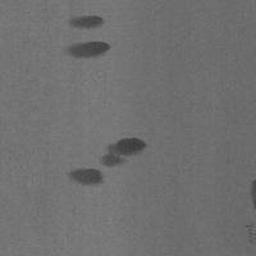Oil spot: (100, 136, 148, 170), (59, 40, 111, 60), (63, 166, 105, 188), (67, 14, 105, 32)
